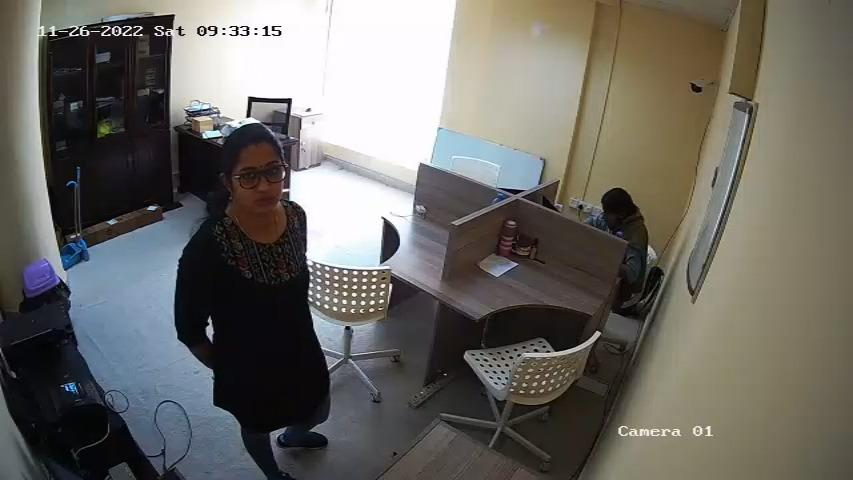no_apron: (211, 214, 307, 422)
